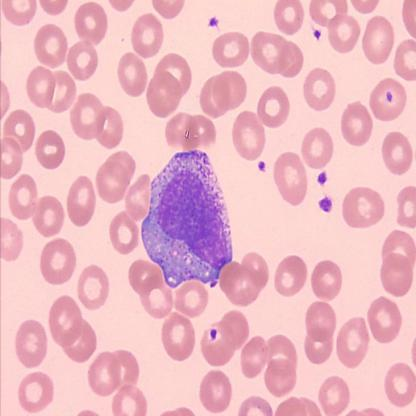Myelocyte: (143, 151, 235, 285)
